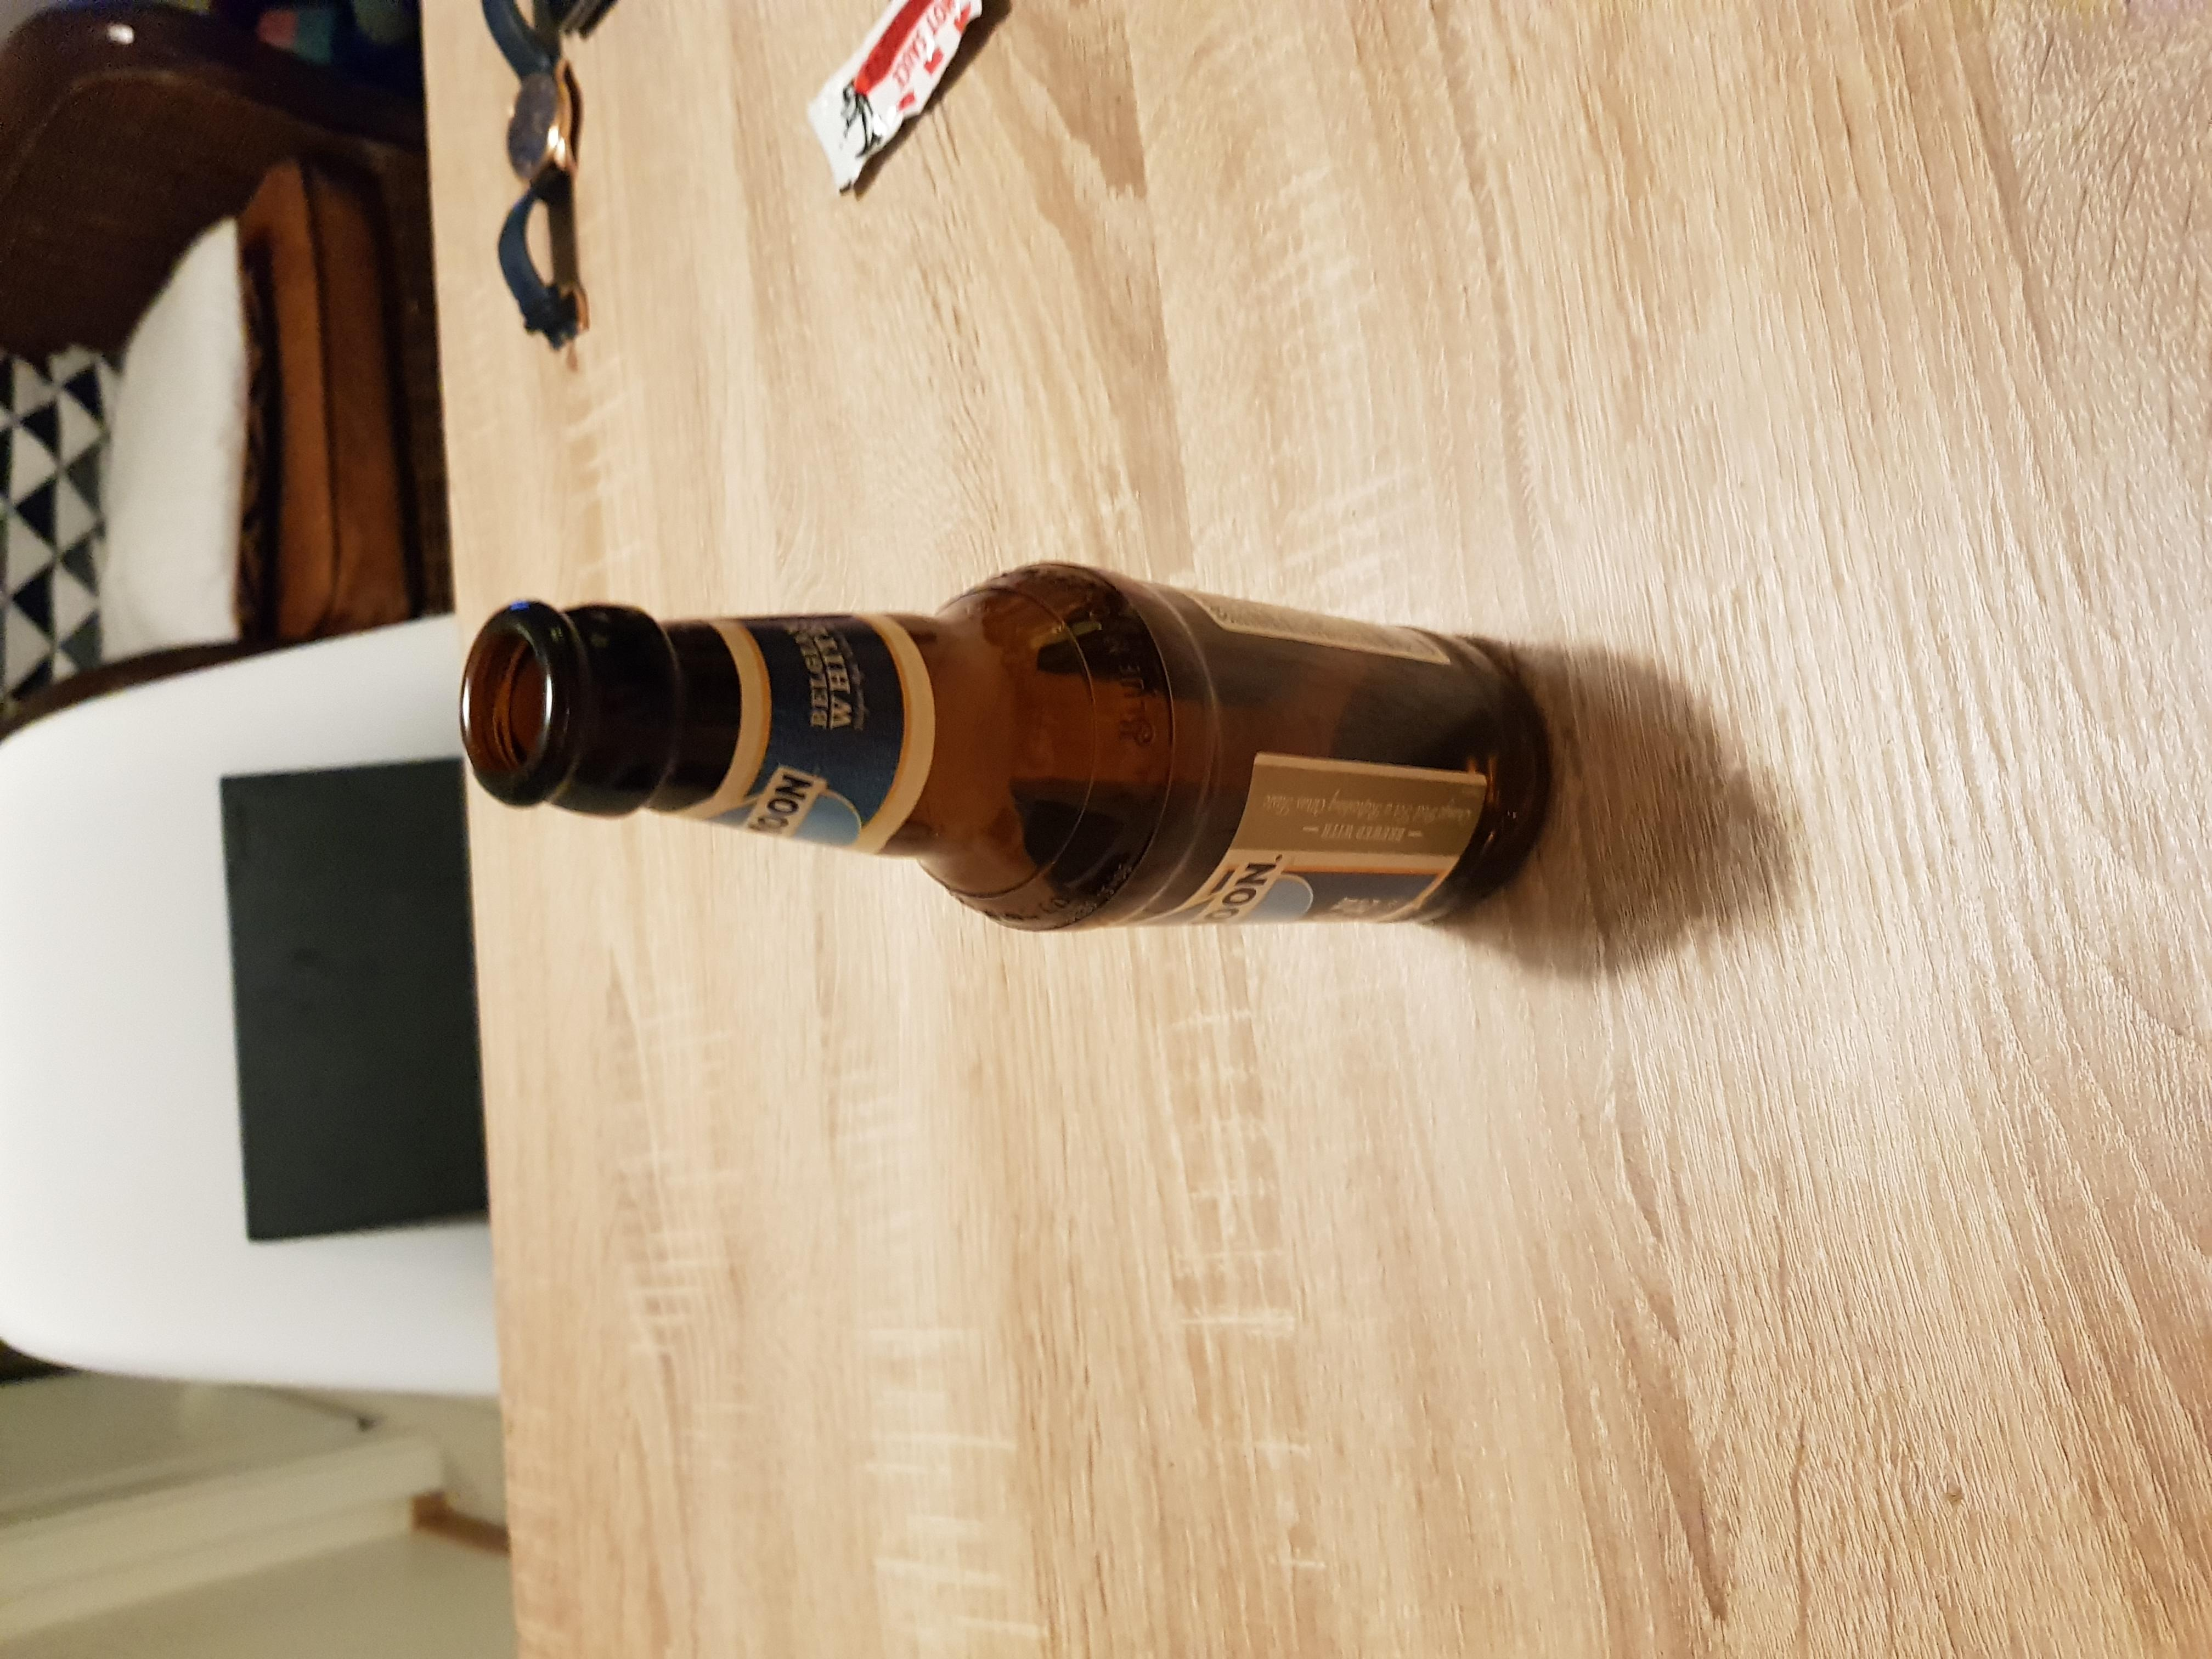Bottle: (463, 561, 1547, 931)
